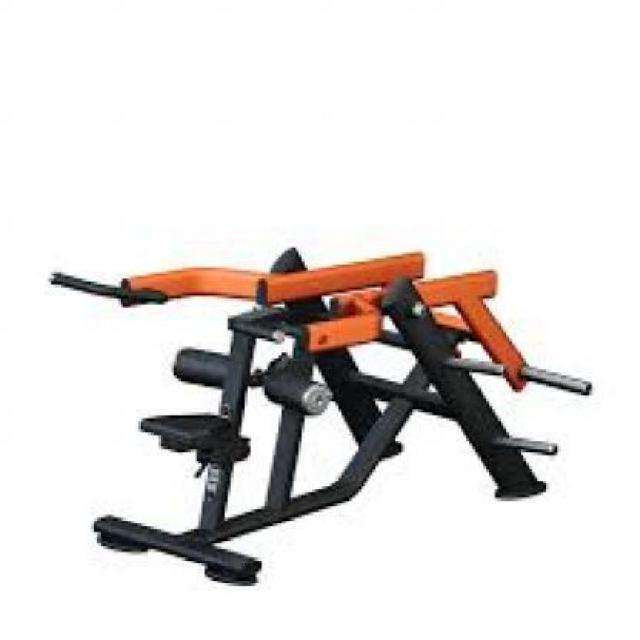seated dip machine: (48, 248, 594, 586)
